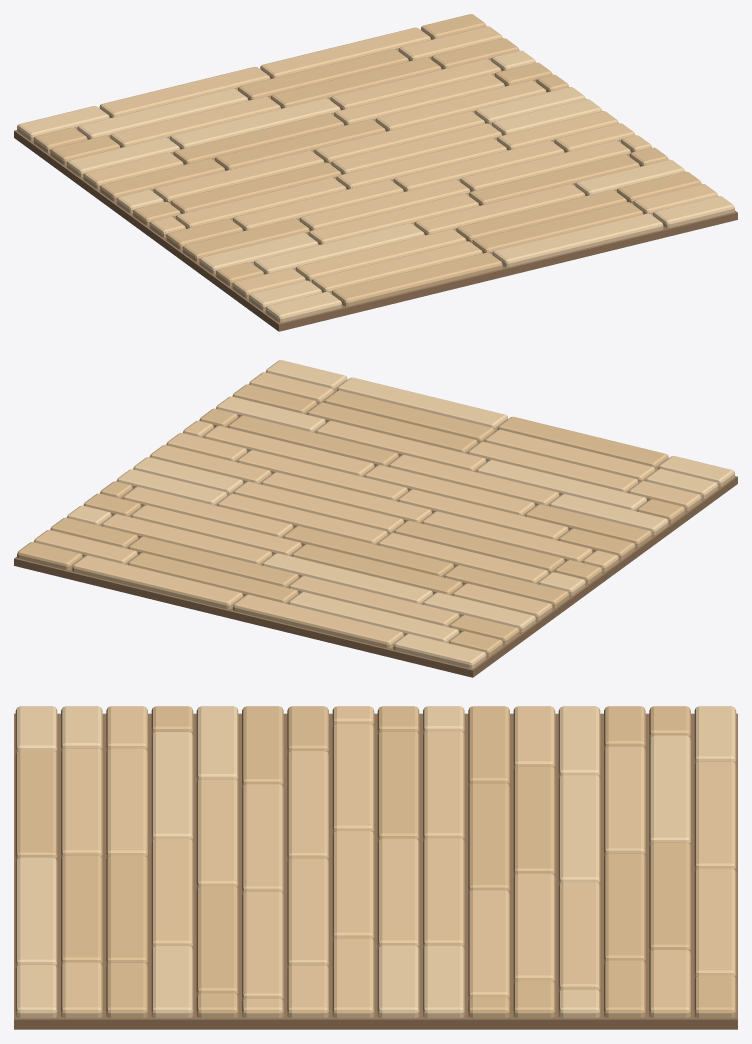
The model's file is floor_planks.fbx.
The picture shows the model from 3 angles, top to bottom: view 1: azimuth 30°, elevation 25°; view 2: azimuth 150°, elevation 25°; view 3: azimuth 270°, elevation 25°; orthographic projection. The views are drawn at different scales.
Visible parts, largest first — view 1: Floor; view 2: Floor; view 3: Floor.
Boxes of the visible parts, bbox=[...] form: Floor: bbox=[14, 14, 737, 331]; Floor: bbox=[14, 360, 737, 677]; Floor: bbox=[14, 706, 737, 1029].
Size of the model in its own units: 4 by 0.12 by 4.
